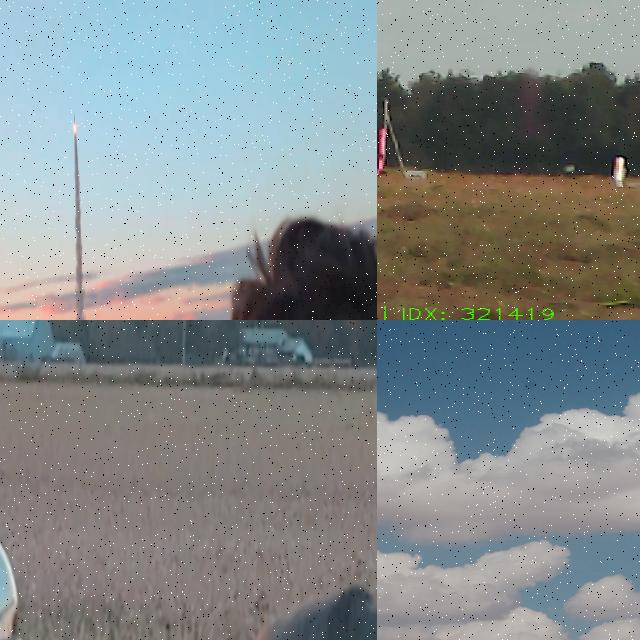Rocket: (377, 127, 389, 176), (74, 111, 76, 124)
